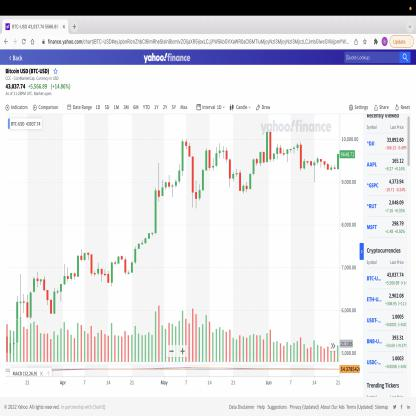Bearish: 3 Black Crows: (188, 141, 198, 211)
Bearish: Tweezer Top: (265, 130, 272, 165), (205, 147, 211, 173), (276, 141, 282, 162)
Bullish: 3 White Soldiers: (198, 147, 208, 202)
Bullish: Morning Star Doji: (124, 255, 134, 277)
